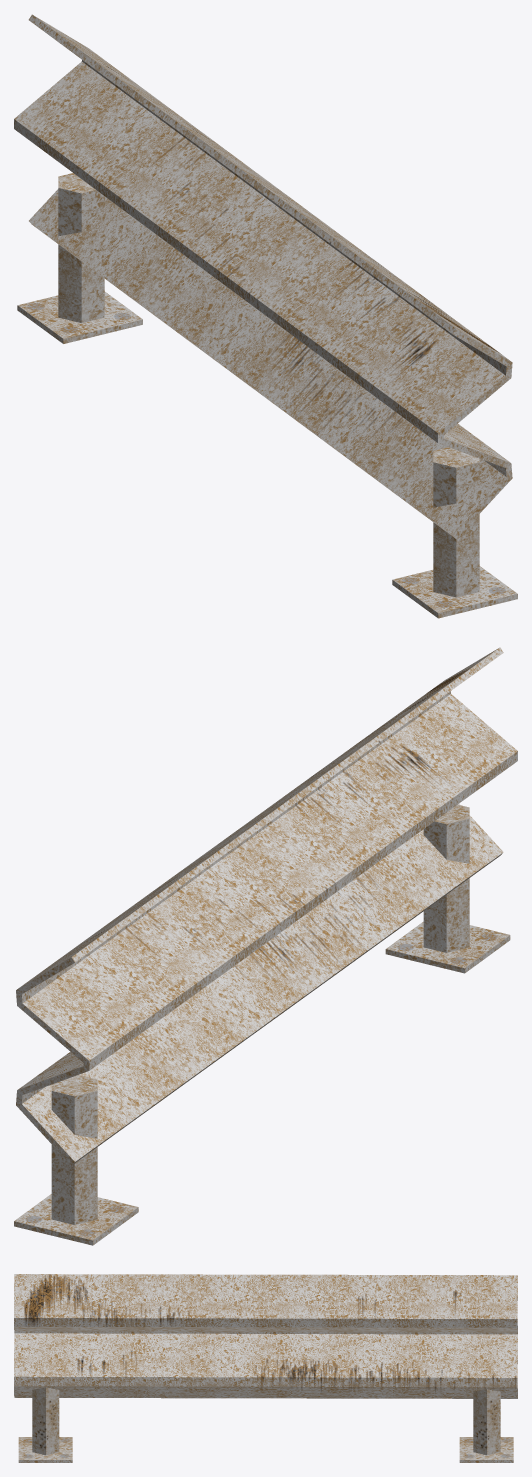
File: barrier.fbx
The picture shows the model from 3 angles, top to bottom: view 1: azimuth 30°, elevation 25°; view 2: azimuth 150°, elevation 25°; view 3: azimuth 270°, elevation 25°; orthographic projection. The views are drawn at different scales.
Parts seen in each view (by area): view 1: barrier; view 2: barrier; view 3: barrier.
Part boxes in pixels (x1,y1,x2,y2): barrier: [14, 14, 517, 618]; barrier: [14, 647, 517, 1245]; barrier: [14, 1274, 517, 1462].
Size of the model in its own units: 14.49 by 47.91 by 129.
Materials: 1 (1 with a texture image).
